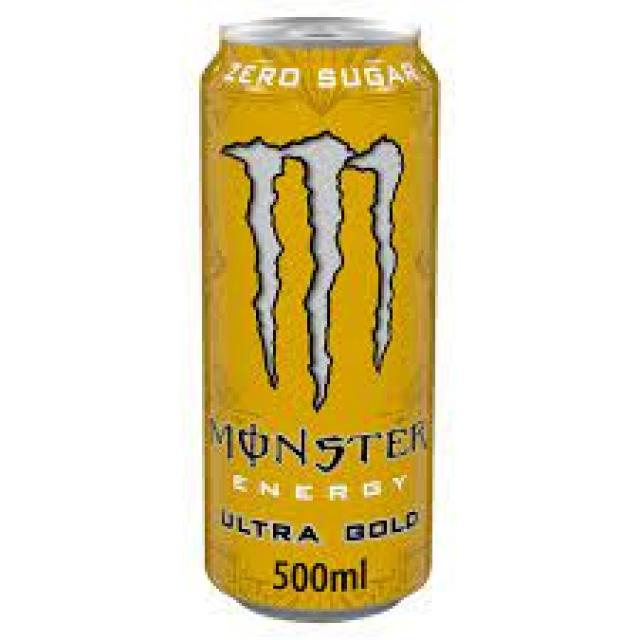Cans: (181, 5, 455, 631)
